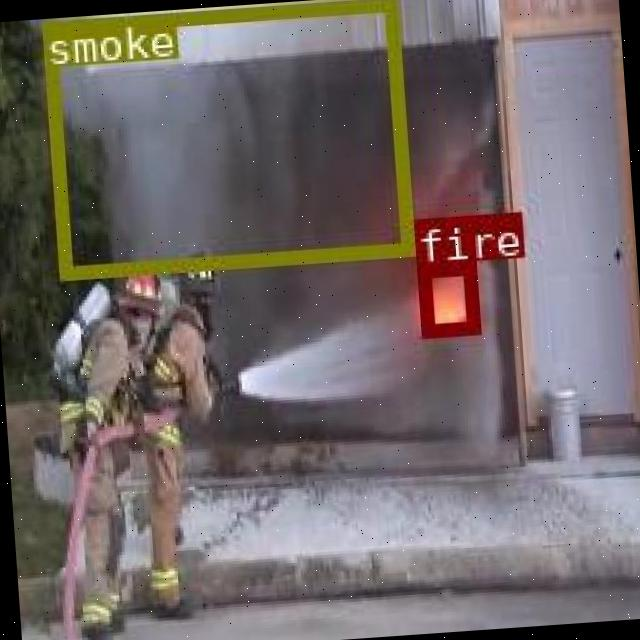fire: (414, 260, 476, 335)
smoke: (39, 0, 410, 276)
